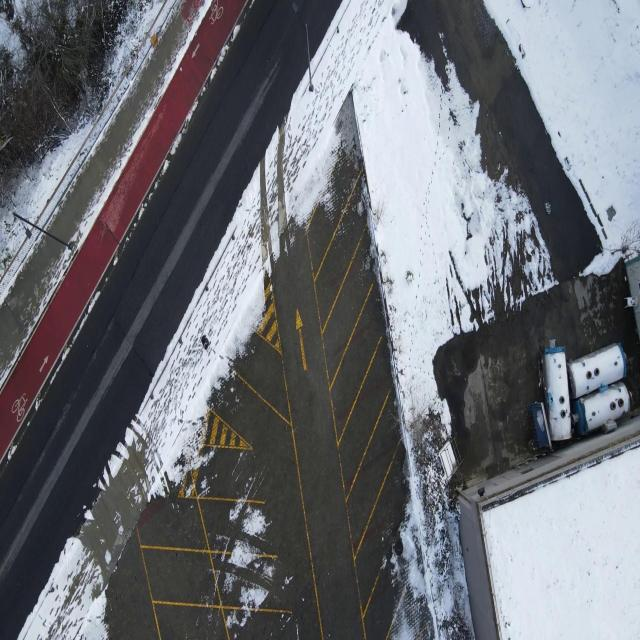p3rson: (201, 333, 211, 353)
